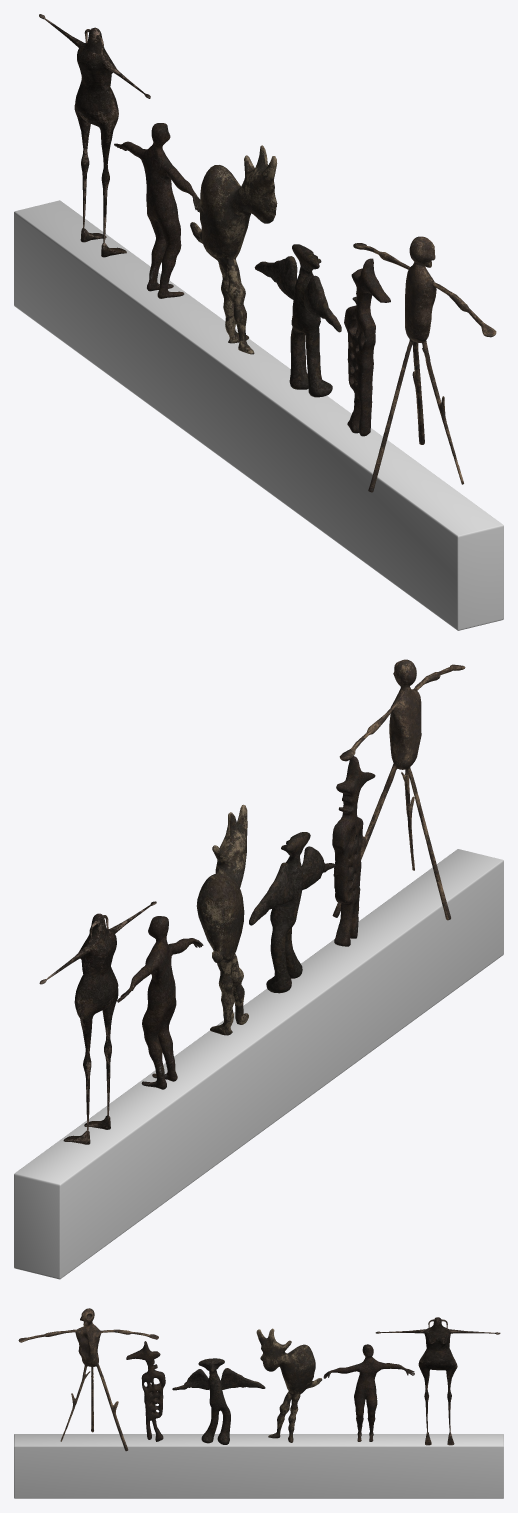
Rendered from bronze_statues.glb.
3 renders of one model, top to bottom at view 1: azimuth 30°, elevation 25°; view 2: azimuth 150°, elevation 25°; view 3: azimuth 270°, elevation 25°, orthographic. The views are drawn at different scales.
Visible parts, largest first — view 1: Cube.008, animal02, 3legged.001, wings, cair, human, animal; view 2: Cube.008, animal02, 3legged.001, cair, wings, human, animal; view 3: Cube.008, animal02, wings, 3legged.001, cair, human, animal.
Boxes of the visible parts, x1=… form: Cube.008: x1=14, y1=200, x2=503, y2=630; animal02: x1=190, y1=145, x2=277, y2=354; 3legged.001: x1=353, y1=236, x2=496, y2=492; wings: x1=254, y1=244, x2=341, y2=397; cair: x1=39, y1=14, x2=150, y2=257; human: x1=114, y1=123, x2=200, y2=298; animal: x1=344, y1=258, x2=390, y2=436; Cube.008: x1=14, y1=849, x2=503, y2=1279; animal02: x1=196, y1=804, x2=248, y2=1035; 3legged.001: x1=332, y1=659, x2=465, y2=920; cair: x1=39, y1=901, x2=156, y2=1144; wings: x1=249, y1=832, x2=335, y2=993; human: x1=117, y1=916, x2=203, y2=1089; animal: x1=332, y1=756, x2=375, y2=946; Cube.008: x1=14, y1=1434, x2=503, y2=1498; animal02: x1=256, y1=1328, x2=322, y2=1442; wings: x1=172, y1=1358, x2=265, y2=1444; 3legged.001: x1=18, y1=1308, x2=158, y2=1451; cair: x1=375, y1=1317, x2=500, y2=1445; human: x1=323, y1=1344, x2=414, y2=1441; animal: x1=126, y1=1341, x2=165, y2=1441.
Bounding box in the file's own units: 0.566 × 2.09 × 5.01.
7 materials, 6 textured.
